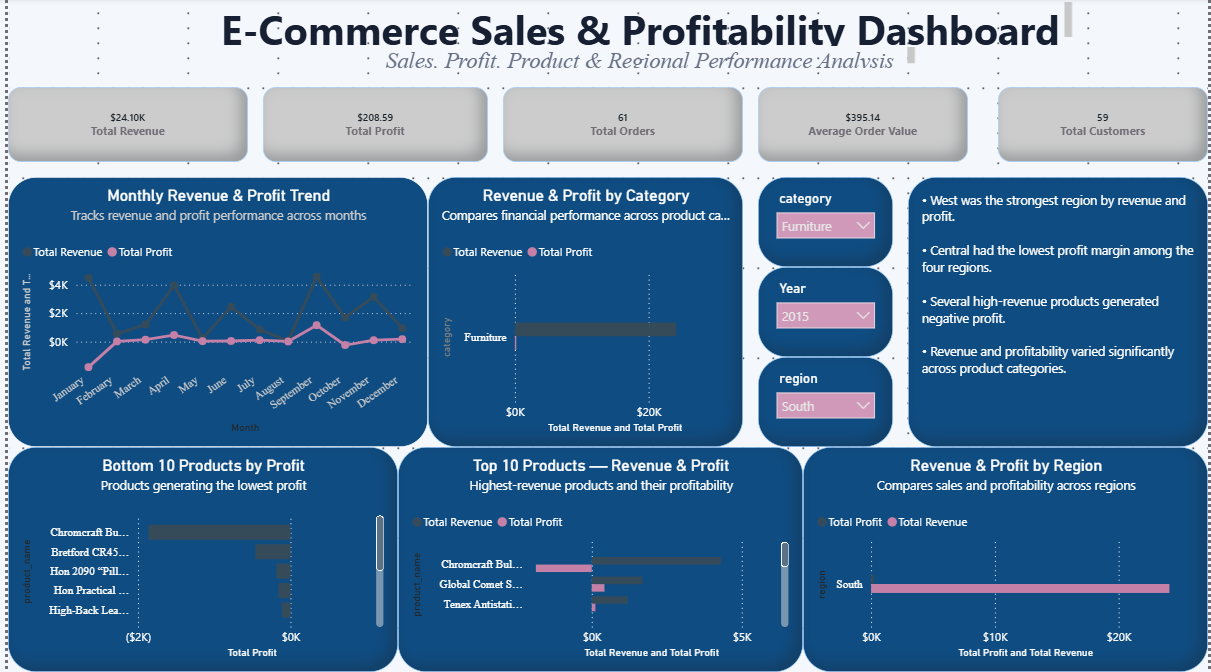

Layout of this report page (visuals, bound fields, positions):
{"tool":"powerbi","page":{"name":"Executive Overview","canvas":[1280,720],"ordinal":0},"visuals":[{"type":"cardVisual","fields":{"Data":["public sales.Total Revenue"]},"box":[0,96,256,80],"z":0},{"type":"cardVisual","fields":{"Data":["public sales.Total Profit"]},"box":[272,96,240,80],"z":1000},{"type":"cardVisual","fields":{"Data":["public sales.Total Orders"]},"box":[528,96,256,80],"z":2000},{"type":"cardVisual","fields":{"Data":["public sales.Total Customers"]},"box":[1056,96,224,80],"z":3000},{"type":"cardVisual","fields":{"Data":["public sales.Average Order Value"]},"box":[800,96,224,80],"z":4000},{"type":"lineChart","title":"Monthly Revenue & Profit Trend","fields":{"Category":["public sales.order_date.Variation.Date Hierarchy.Month"],"Y":["public sales.Total Revenue","public sales.Total Profit"]},"box":[0,192,448,288],"z":5000},{"type":"clusteredBarChart","title":"Revenue & Profit by Category","fields":{"Category":["public sales.category"],"Y":["public sales.Total Revenue","public sales.Total Profit"]},"box":[448,192,336,288],"z":6000},{"type":"clusteredBarChart","title":"Revenue & Profit by Region","fields":{"Category":["public sales.region"],"Y":["public sales.Total Profit","public sales.Total Revenue"]},"box":[848,480,432,240],"z":7000},{"type":"clusteredBarChart","title":"Top 10 Products — Revenue & Profit","fields":{"Category":["public sales.product_name"],"Y":["public sales.Total Revenue","public sales.Total Profit"]},"box":[416,480,432,240],"z":8000},{"type":"clusteredBarChart","title":"Bottom 10 Products by Profit","fields":{"Category":["public sales.product_name"],"Y":["public sales.Total Profit"]},"box":[0,480,416,240],"z":9000},{"type":"slicer","fields":{"Values":["public sales.order_date.Variation.Date Hierarchy.Year"]},"box":[800,288,144,96],"z":10000},{"type":"slicer","fields":{"Values":["public sales.region"]},"box":[800,384,144,96],"z":11000},{"type":"slicer","fields":{"Values":["public sales.category"]},"box":[800,192,144,96],"z":12000},{"type":"textbox","box":[218,0,922,56],"z":13000},{"type":"textbox","box":[384,48,588,32],"z":14000},{"type":"textbox","box":[960,192,320,288],"z":15000}]}

Visuals, with their boxes in screenshot pixels (x1, y1, x2, y2), scaled from the page's 1280x720 canvas onto the 1211x672 screenshot:
cardVisual - public sales.Total Revenue: <region>0, 90, 242, 164</region>
cardVisual - public sales.Total Profit: <region>257, 90, 484, 164</region>
cardVisual - public sales.Total Orders: <region>500, 90, 742, 164</region>
cardVisual - public sales.Total Customers: <region>999, 90, 1210, 164</region>
cardVisual - public sales.Average Order Value: <region>757, 90, 969, 164</region>
"Monthly Revenue & Profit Trend" lineChart: <region>0, 179, 424, 448</region>
"Revenue & Profit by Category" clusteredBarChart: <region>424, 179, 742, 448</region>
"Revenue & Profit by Region" clusteredBarChart: <region>802, 448, 1210, 671</region>
"Top 10 Products — Revenue & Profit" clusteredBarChart: <region>394, 448, 802, 671</region>
"Bottom 10 Products by Profit" clusteredBarChart: <region>0, 448, 394, 671</region>
slicer - public sales.order_date.Variation.Date Hierarchy.Year: <region>757, 269, 893, 358</region>
slicer - public sales.region: <region>757, 358, 893, 448</region>
slicer - public sales.category: <region>757, 179, 893, 269</region>
textbox: <region>206, 0, 1079, 52</region>
textbox: <region>363, 45, 920, 75</region>
textbox: <region>908, 179, 1210, 448</region>
